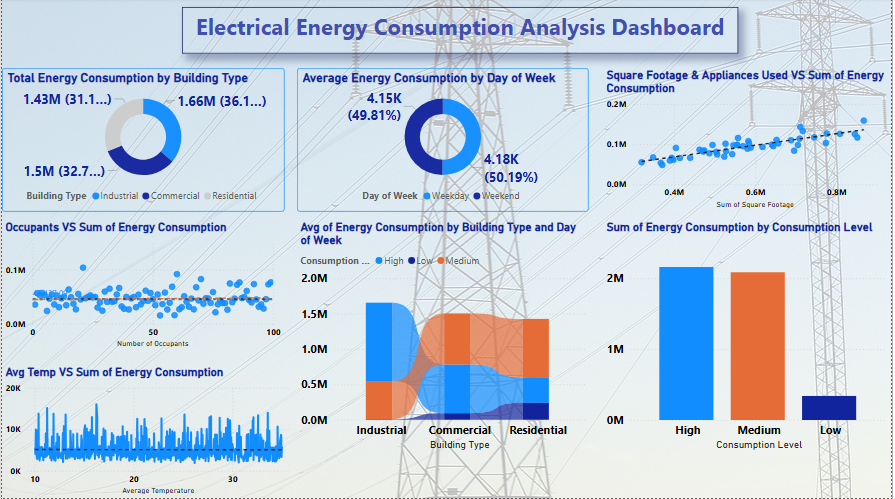

What the dashboard file says about the page in this screenshot:
{"tool":"powerbi","page":{"name":"Duplicate of Page 1","canvas":[1280,720],"ordinal":1},"visuals":[{"type":"textbox","box":[258.7,13.4,801.3,67.2],"z":0},{"type":"donutChart","fields":{"Category":["energy_consumption.Building Type"],"Y":["Sum(energy_consumption.Energy Consumption)"]},"box":[0,100.8,406.5,206.6],"z":1000},{"type":"donutChart","fields":{"Category":["energy_consumption.Day of Week"],"Y":["Avg(energy_consumption.Energy Consumption)"]},"box":[425,100.8,419.9,206.6],"z":2000},{"type":"scatterChart","title":" Square Footage & Appliances Used  VS Sum of Energy Consumption ","fields":{"X":["Sum(energy_consumption.Square Footage)"],"Y":["Sum(energy_consumption.Energy Consumption)"],"Category":["energy_consumption.Appliances Used"]},"box":[865.1,100.8,414.9,206.6],"z":3000},{"type":"scatterChart","title":"Occupants VS Sum of Energy Consumption ","fields":{"Y":["Sum(energy_consumption.Energy Consumption)"],"X":["energy_consumption.Number of Occupants"]},"box":[0,319.2,406.5,188.1],"z":4000},{"type":"lineChart","title":" Avg Temp VS Sum of Energy Consumption ","fields":{"Y":["Sum(energy_consumption.Energy Consumption)"],"Category":["energy_consumption.Average Temperature"]},"box":[0,529.1,418.3,191.5],"z":5000},{"type":"ribbonChart","title":"Avg of Energy Consumption by Building Type and Day of Week","fields":{"Category":["energy_consumption.Building Type"],"Y":["Sum(energy_consumption.Energy Consumption)"],"Series":["energy_consumption.Consumption Level"]},"box":[424.8,319.7,420.5,380.2],"z":7000},{"type":"clusteredColumnChart","fields":{"Category":["energy_consumption.Consumption Level"],"Y":["Sum(energy_consumption.Energy Consumption)"]},"box":[865.4,319.7,414.7,380.2],"z":7001}]}

Visuals, with their boxes in screenshot pixels (x1, y1, x2, y2), scaled from the page's 1280x720 canvas onto the 895x499 screenshot:
textbox: bbox=(181, 9, 741, 56)
donutChart - energy_consumption.Building Type x Sum(energy_consumption.Energy Consumption): bbox=(0, 70, 284, 213)
donutChart - energy_consumption.Day of Week x Avg(energy_consumption.Energy Consumption): bbox=(297, 70, 591, 213)
" Square Footage & Appliances Used  VS Sum of Energy Consumption " scatterChart: bbox=(605, 70, 894, 213)
"Occupants VS Sum of Energy Consumption " scatterChart: bbox=(0, 221, 284, 352)
" Avg Temp VS Sum of Energy Consumption " lineChart: bbox=(0, 367, 292, 498)
"Avg of Energy Consumption by Building Type and Day of Week" ribbonChart: bbox=(297, 222, 591, 485)
clusteredColumnChart - energy_consumption.Consumption Level x Sum(energy_consumption.Energy Consumption): bbox=(605, 222, 894, 485)
